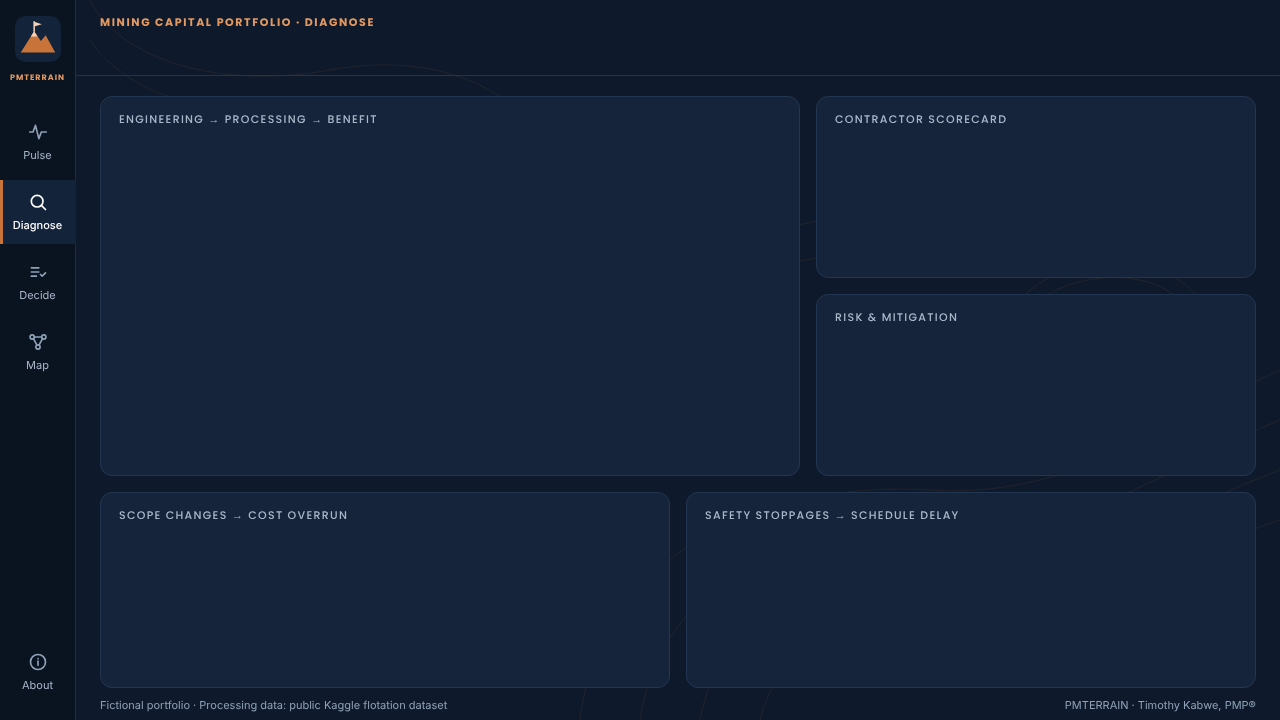

The page's visual inventory and layout, read from the dashboard file:
{"tool":"powerbi","page":{"name":"Diagnose","canvas":[1280,720],"ordinal":1},"visuals":[{"type":"lineStackedColumnComboChart","title":"Flotation benefit is eroding as the maintenance backlog grows","fields":{"Category":["Calendar.YearMonth"],"Y":["Key_MeasuresPMO.Late PM Jobs"],"Y2":["Key_MeasuresPMO.Avg Silica %"]},"box":[112,126,676,340],"z":0},{"type":"tableEx","fields":{"Values":["Dim_Contractor.ContractorName","Key_MeasuresPMO.TRIFR","Key_MeasuresPMO.Recordable Injuries","Key_MeasuresPMO.Total Man-Hours"]},"box":[812.4,126.2,416,150],"z":1000},{"type":"tableEx","fields":{"Values":["Dim_Project.ProjectName","Key_MeasuresPMO.Overdue Mitigations","Key_MeasuresPMO.Open Mitigations","Key_MeasuresPMO.SPI"]},"box":[828,320,416,150],"z":2000},{"type":"scatterChart","title":"Projects with more scope changes forecast bigger overruns","fields":{"Category":["Dim_Project.ProjectName"],"X":["Key_MeasuresPMO.Scope Change Cost"],"Y":["Key_MeasuresPMO.Forecast Overrun %"]},"box":[112,514,546,166],"z":3000},{"type":"scatterChart","title":"Projects with more safety stoppages are further behind schedule","fields":{"Category":["Dim_Project.ProjectName"],"X":["Key_MeasuresPMO.Stop-Work Days"],"Y":["Key_MeasuresPMO.SPI"]},"box":[698,514,546,166],"z":4000},{"type":"actionButton","box":[0,110,76,64],"z":5000},{"type":"actionButton","box":[0,180,76,64],"z":6000},{"type":"actionButton","box":[0,255.8,76,64],"z":7000},{"type":"actionButton","box":[0,640,76,64],"z":8000},{"type":"slicer","fields":{"Values":["Dim_Site.SiteName"]},"box":[856,14,190,50],"z":9000},{"type":"slicer","fields":{"Values":["Dim_Project.Programme"]},"box":[1062,14,190,50],"z":10000},{"type":"actionButton","box":[0,320,76,64],"z":11000},{"type":"actionButton","box":[520,40,190,28],"z":12000}]}

Visuals, with their boxes on the page's 1280x720 design canvas (x1, y1, x2, y2). These are canvas units, not pixel positions in the 1280x720 screenshot, which may show the page scaled, cropped or inside an application window:
"Flotation benefit is eroding as the maintenance backlog grows" lineStackedColumnComboChart: 112:126:788:466
tableEx - Dim_Contractor.ContractorName x Key_MeasuresPMO.TRIFR: 812:126:1228:276
tableEx - Dim_Project.ProjectName x Key_MeasuresPMO.Overdue Mitigations: 828:320:1244:470
"Projects with more scope changes forecast bigger overruns" scatterChart: 112:514:658:680
"Projects with more safety stoppages are further behind schedule" scatterChart: 698:514:1244:680
actionButton: 0:110:76:174
actionButton: 0:180:76:244
actionButton: 0:256:76:320
actionButton: 0:640:76:704
slicer - Dim_Site.SiteName: 856:14:1046:64
slicer - Dim_Project.Programme: 1062:14:1252:64
actionButton: 0:320:76:384
actionButton: 520:40:710:68
